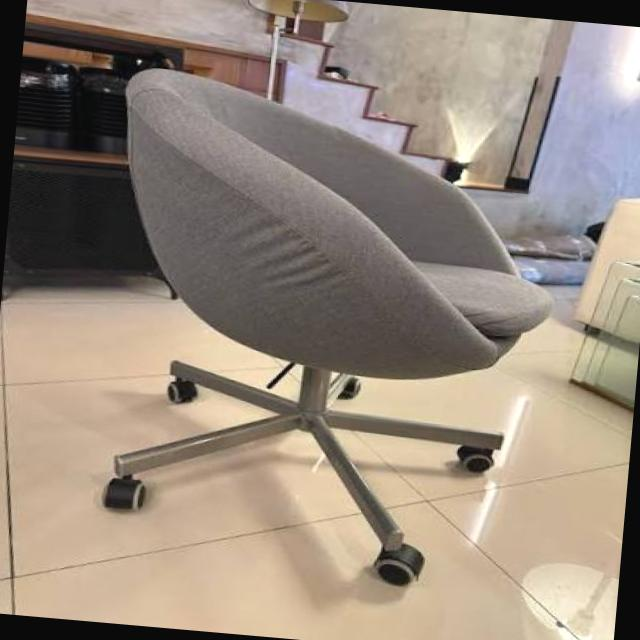Chair: (68, 50, 584, 608)
